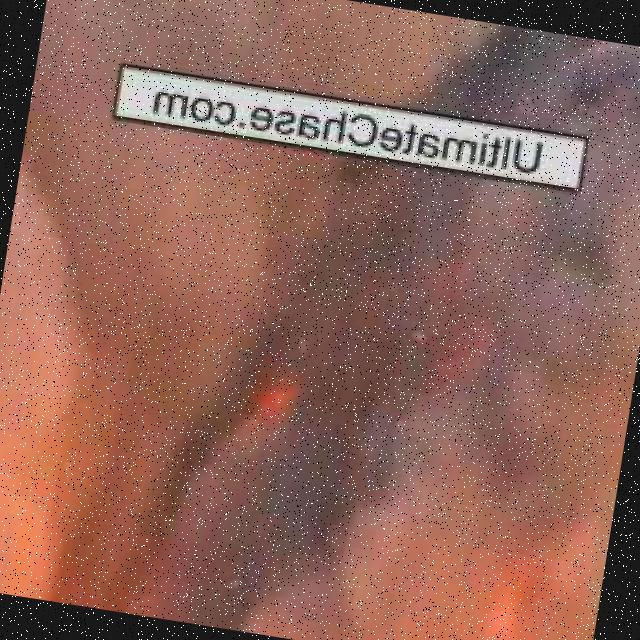Fire: (431, 474, 615, 640), (242, 368, 302, 440)
